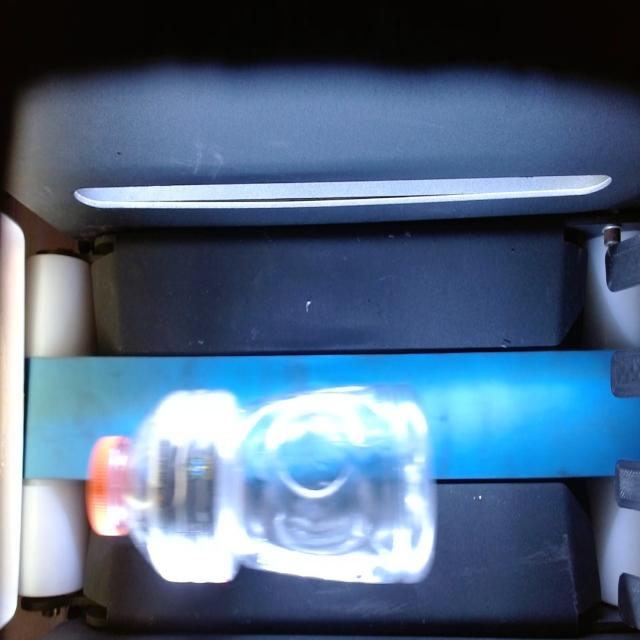bottom: (378, 368, 447, 588)
cap: (80, 421, 134, 542)
